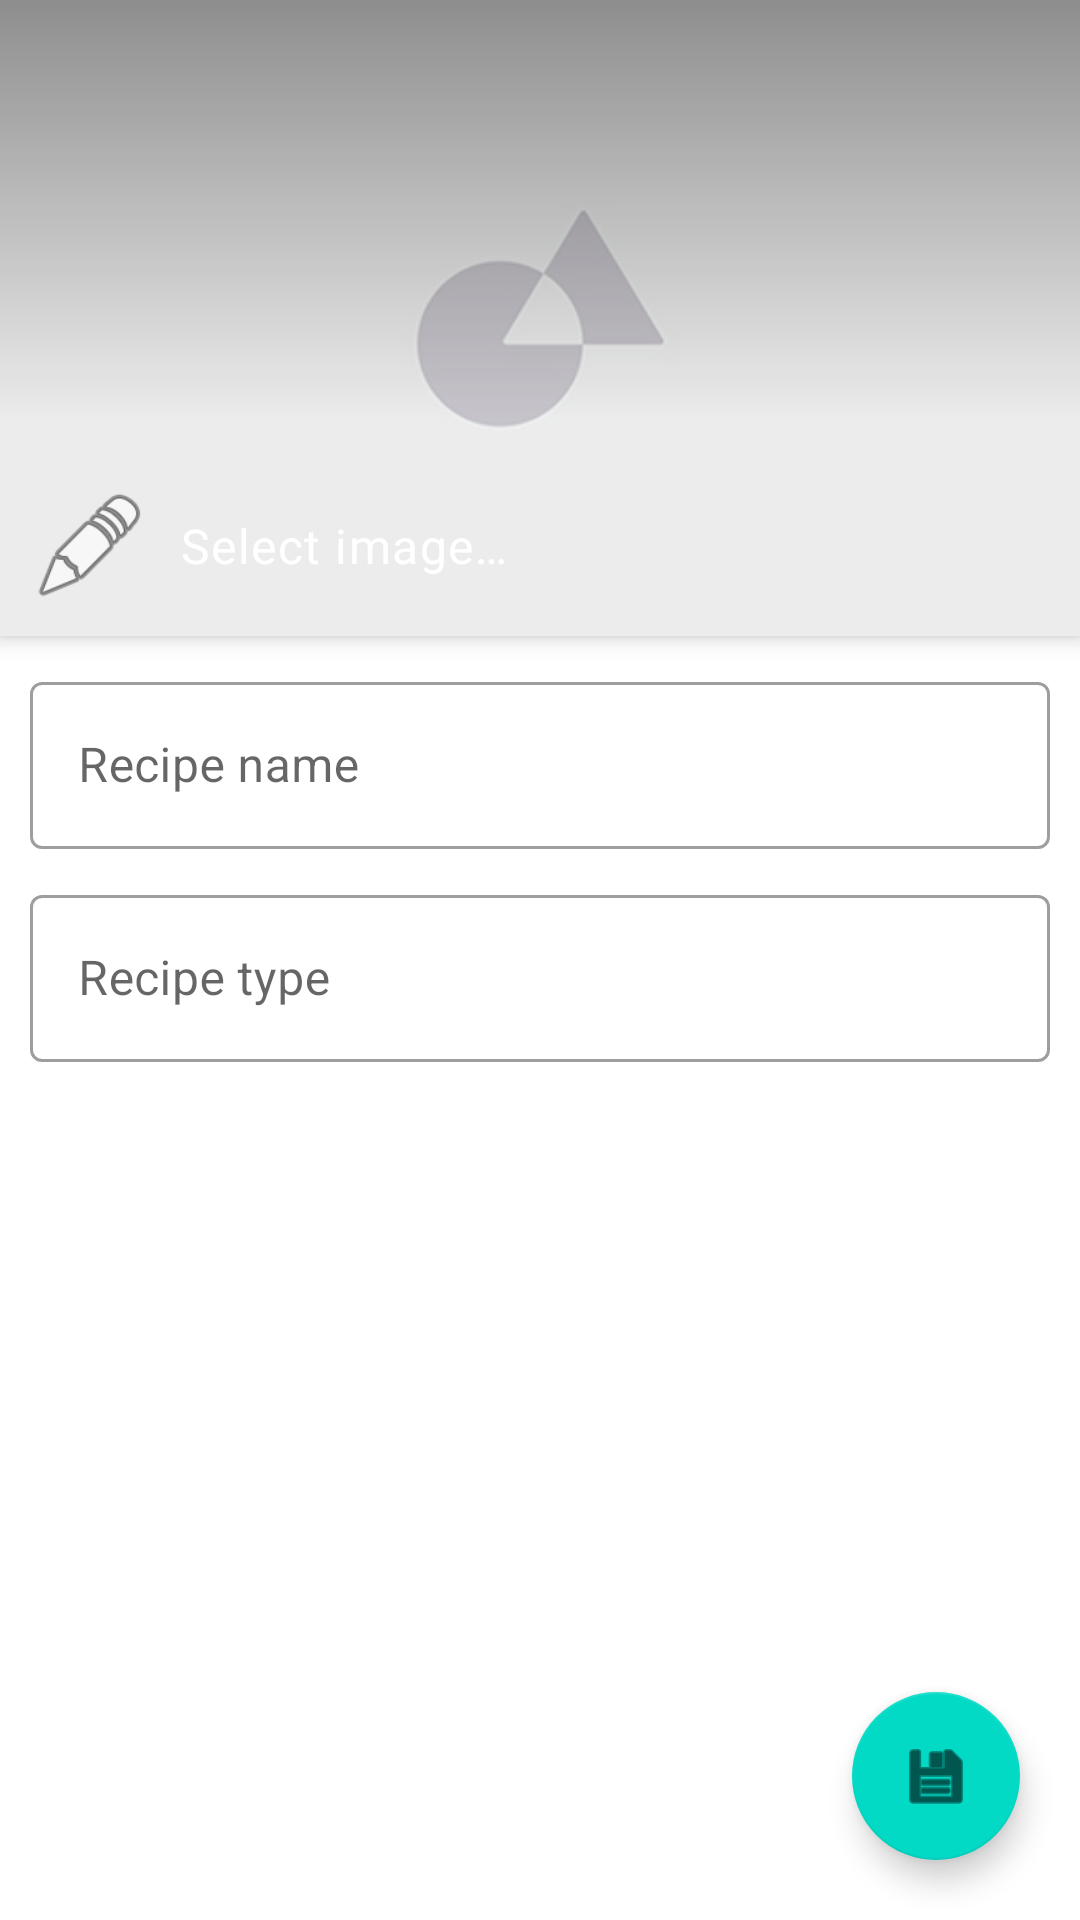

Icons on this 1080 × 1920 Android screen, each with the point to tap as [x,y]:
edit: [89,545]
save: [936,1776]
